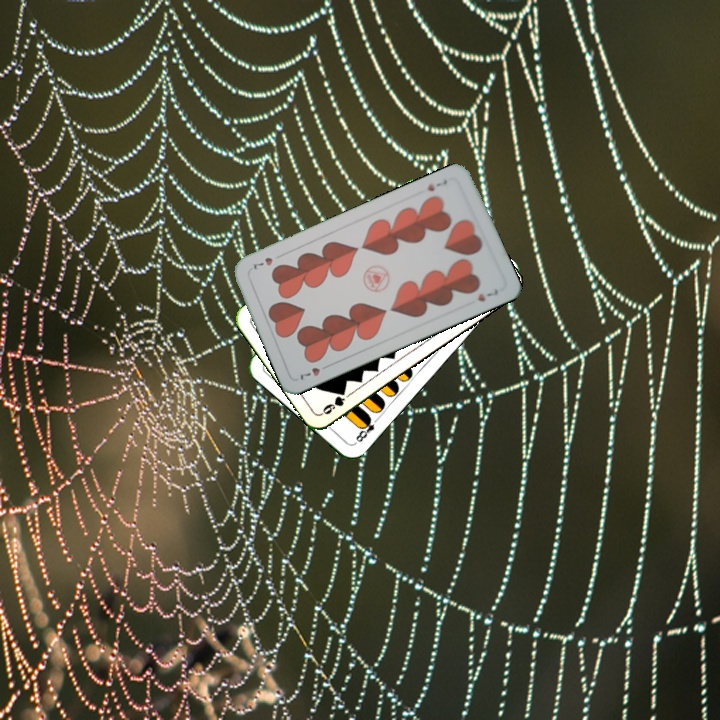E8: (351, 413, 382, 446)
G9: (318, 387, 348, 417)
H7: (296, 360, 333, 382), (423, 175, 450, 194)
